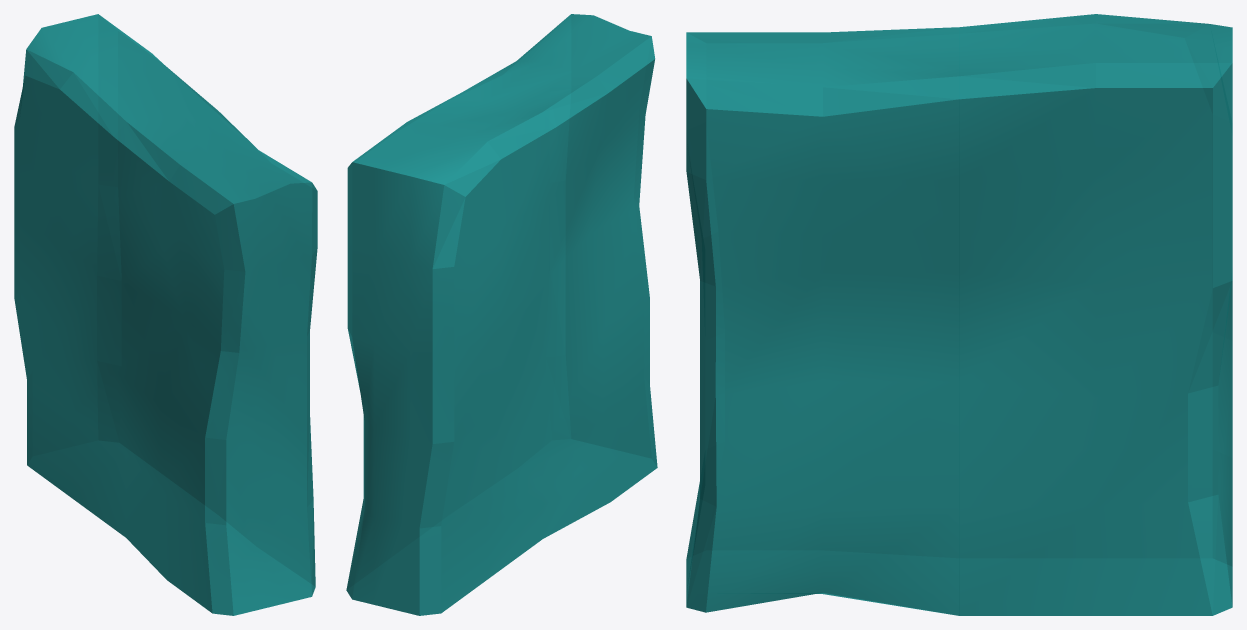
File: isblokk_dør.FBX
3 views of the same model, side by side, from view 1: azimuth 30°, elevation 25°; view 2: azimuth 150°, elevation 25°; view 3: azimuth 270°, elevation 25° (orthographic). The views are drawn at different scales.
Parts seen in each view (by area): view 1: Box001; view 2: Box001; view 3: Box001.
Boxes of the visible parts, x1,y1,x2,y2 form: Box001: (14,14,317,615); Box001: (346,14,657,615); Box001: (686,14,1232,615).
Size of the model in its own units: 19.44 by 75.32 by 68.42.
